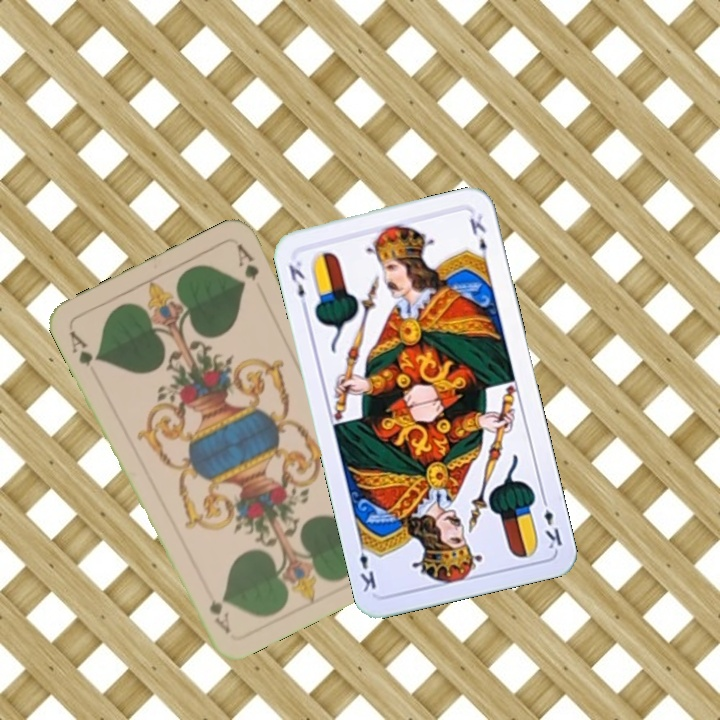EK: (537, 492, 565, 552), (284, 257, 311, 312)
GA: (65, 326, 102, 369)
